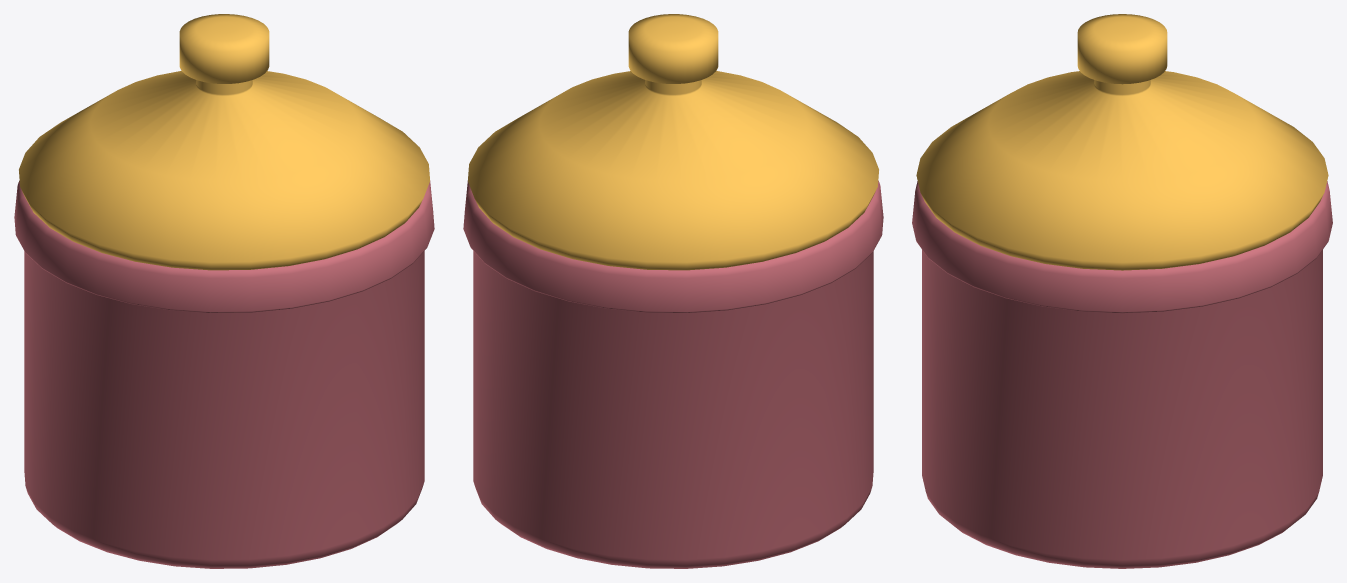
File: jar.glb
3 renders of one model, left to right at view 1: azimuth 30°, elevation 25°; view 2: azimuth 150°, elevation 25°; view 3: azimuth 270°, elevation 25°, orthographic.
Visible parts, largest first — view 1: Cylinder.005, Cylinder.007; view 2: Cylinder.005, Cylinder.007; view 3: Cylinder.005, Cylinder.007.
Part boxes in pixels (x1,y1,x2,y2): Cylinder.005: [14, 180, 434, 568]; Cylinder.007: [19, 14, 429, 270]; Cylinder.005: [463, 180, 883, 568]; Cylinder.007: [468, 14, 878, 270]; Cylinder.005: [912, 181, 1332, 568]; Cylinder.007: [916, 14, 1328, 270].
Bounding box in the file's own units: 0.2128 × 0.2576 × 0.2128.
